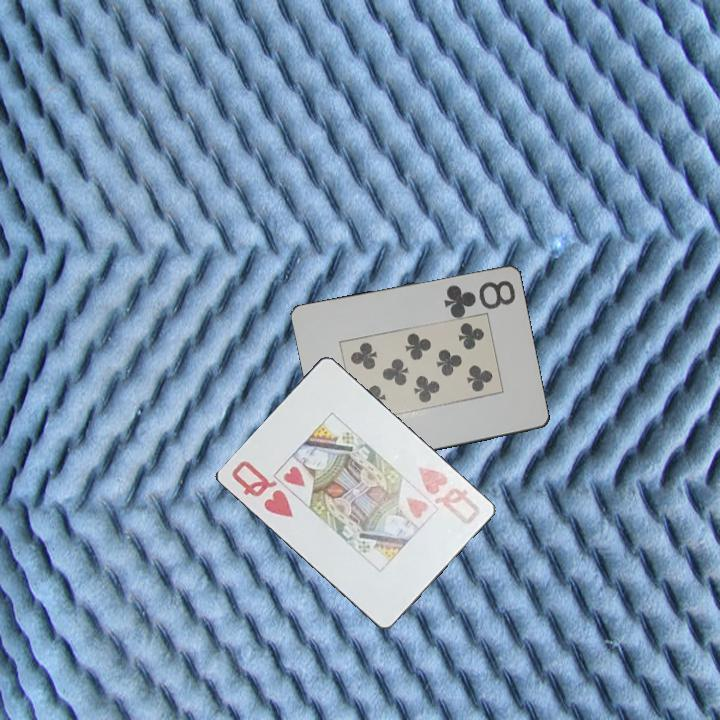8c: (440, 277, 518, 318)
Qh: (227, 455, 296, 520), (414, 463, 483, 527)
